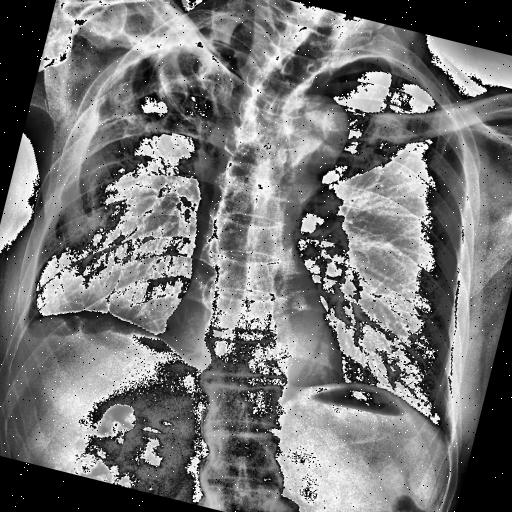11- Pleural thickening: (0, 286, 203, 386), (122, 0, 278, 90), (104, 18, 234, 84)
13- Pulmonary fibrosis: (46, 0, 273, 222), (95, 20, 261, 208), (80, 16, 246, 186), (94, 244, 139, 334)
6- Infiltration: (95, 20, 261, 208)
7- Lung Opacity: (95, 20, 261, 208)
9- Other lesion: (80, 16, 246, 186), (18, 178, 122, 272)
